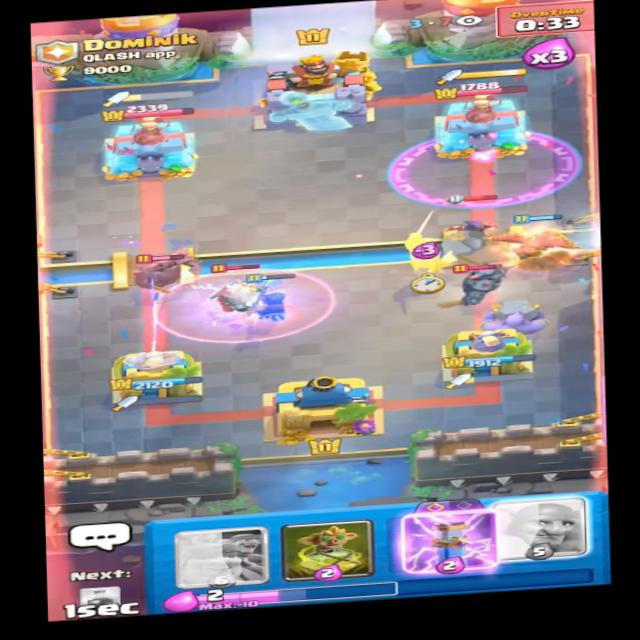evo-wizard: (437, 193, 506, 240)
pekka: (127, 242, 206, 294), (437, 259, 520, 308)
royal-ghost: (194, 261, 270, 321)
